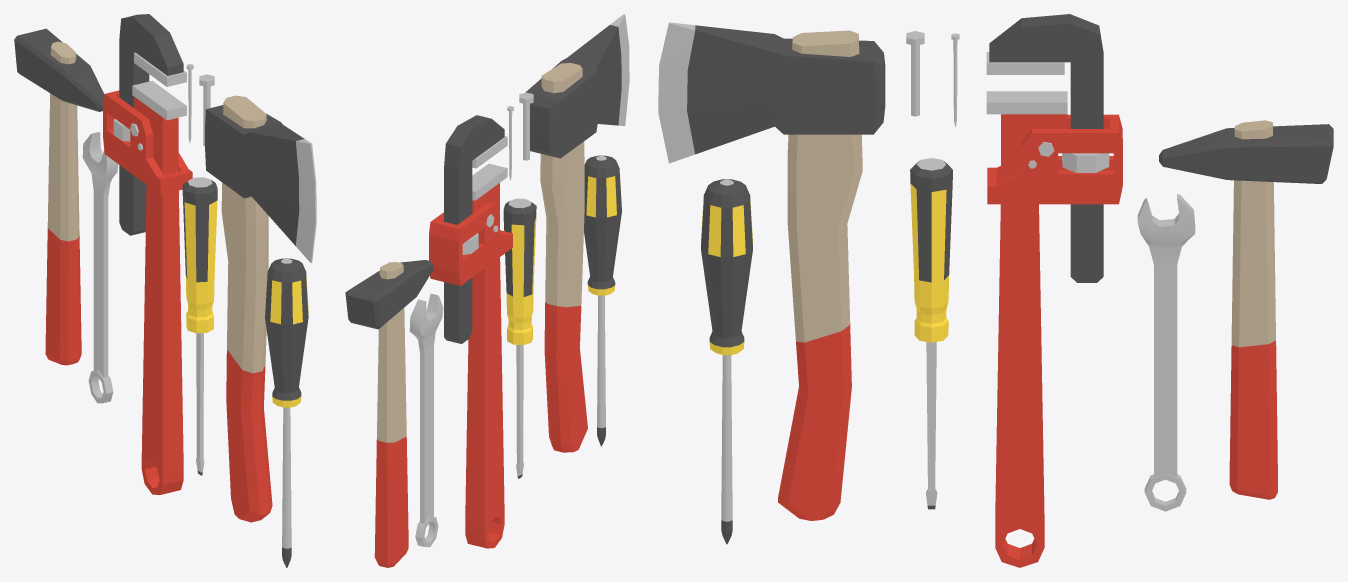
The model's file is tools.glb.
3 views of the same model, side by side, from view 1: azimuth 30°, elevation 25°; view 2: azimuth 150°, elevation 25°; view 3: azimuth 270°, elevation 25° (orthographic). The views are drawn at different scales.
Parts seen in each view (by area): view 1: Topor, GazKluch, pCube12, Molotok, Otvertla_X, pCube2, Kluch, Otvertka_I, pCube10, pCube9, polySurface3, pCube6 (+3 smaller); view 2: Topor, GazKluch, pCube12, Molotok, pCube2, Otvertla_X, pCube9, Kluch, Otvertka_I, pCube10, polySurface3, polySurface2 (+3 smaller); view 3: Topor, pCube12, GazKluch, Molotok, pCube2, Kluch, pCube9, pCube10, Otvertla_X, Otvertka_I, polySurface3, pCube6 (+4 smaller).
Boxes of the visible parts, x1,y1,x2,y2 form: Topor: (221,95,272,522); GazKluch: (134,97,183,494); pCube12: (205,105,316,262); Molotok: (45,41,81,365); Otvertla_X: (265,258,308,407); pCube2: (119,14,183,235); Kluch: (82,132,118,403); Otvertka_I: (182,177,217,333); pCube10: (14,28,104,111); pCube9: (103,90,192,194); polySurface3: (282,407,291,567); pCube6: (132,80,186,120); Topor: (540,63,587,452); GazKluch: (465,183,504,548); pCube12: (525,14,629,158); Molotok: (374,262,408,567); pCube2: (444,115,504,343); Otvertla_X: (584,155,621,295); pCube9: (429,202,512,285); Kluch: (409,293,443,547); Otvertka_I: (503,198,536,345); pCube10: (345,260,433,329); polySurface3: (597,295,605,446); polySurface2: (516,345,523,478); Topor: (778,30,862,520); pCube12: (658,22,885,163); GazKluch: (995,114,1067,567); Molotok: (1229,120,1277,499); pCube2: (989,14,1103,282); Kluch: (1137,194,1195,511); pCube9: (987,114,1122,204); pCube10: (1159,124,1333,183); Otvertla_X: (701,179,752,355); Otvertka_I: (910,158,952,342); polySurface3: (721,355,732,544); pCube6: (986,91,1067,114).
Bounding box in the file's own units: 0.0807 × 0.9254 × 1.04.
